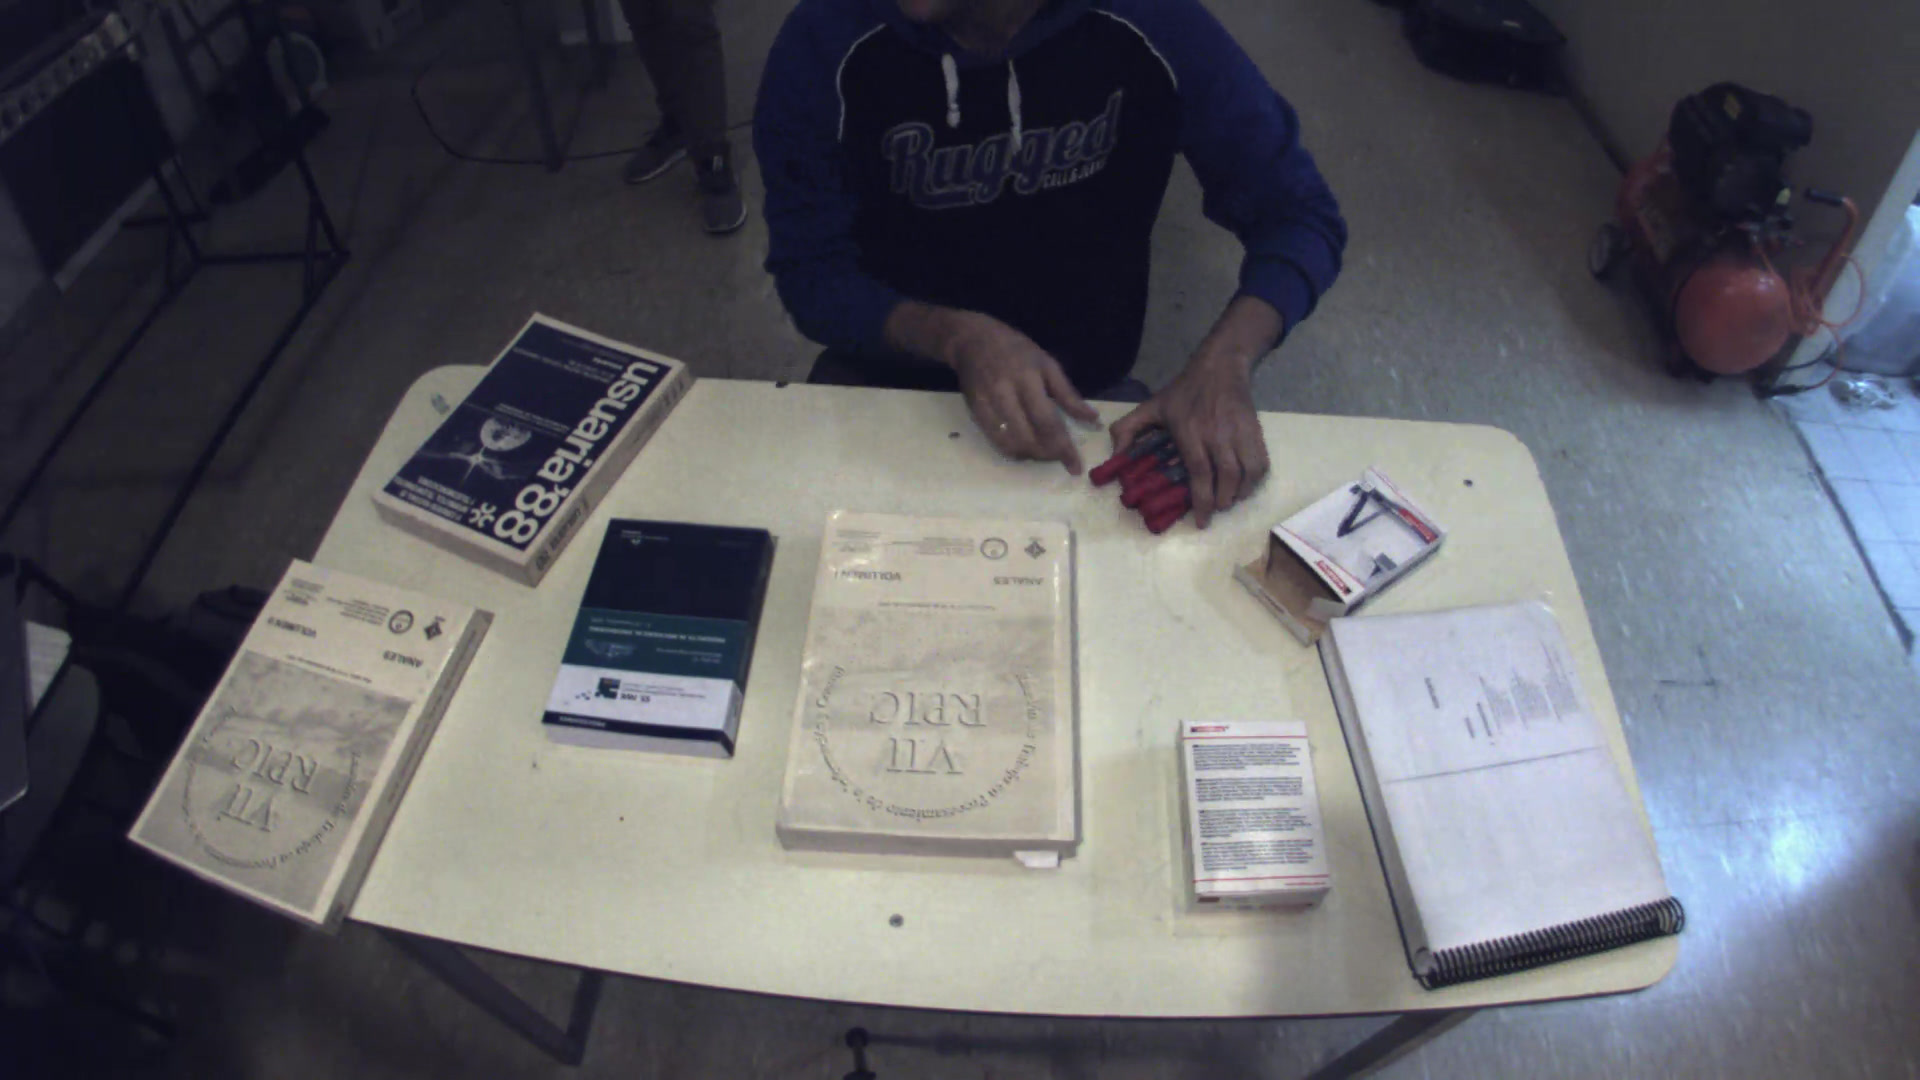hand: (882, 287, 1100, 471), (1077, 353, 1279, 527)
